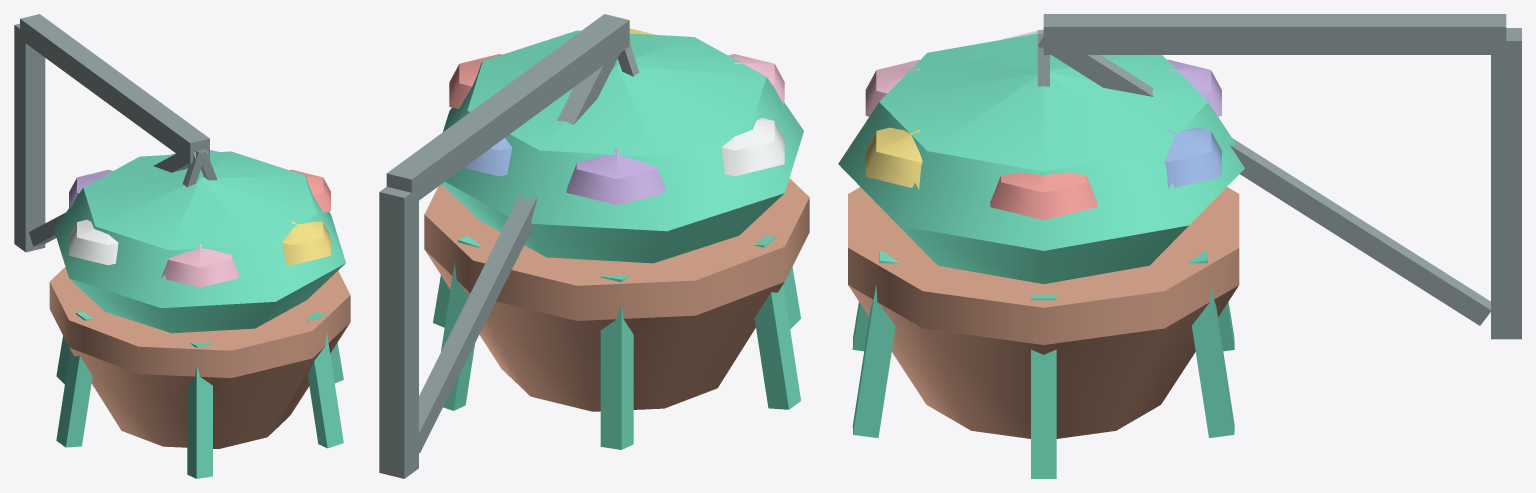
File: gardenHangingBasket.glb
The picture shows the model from 3 angles, left to right: view 1: azimuth 30°, elevation 25°; view 2: azimuth 150°, elevation 25°; view 3: azimuth 270°, elevation 25°; orthographic projection. The views are drawn at different scales.
Visible parts, largest first — view 1: gardenHangingBasket; view 2: gardenHangingBasket; view 3: gardenHangingBasket.
Part boxes in pixels (x1,y1,x2,y2): gardenHangingBasket: (14, 14, 350, 478); gardenHangingBasket: (379, 14, 809, 478); gardenHangingBasket: (838, 14, 1521, 478).
Size of the model in its own units: 0.2123 by 0.2075 by 0.3325.
